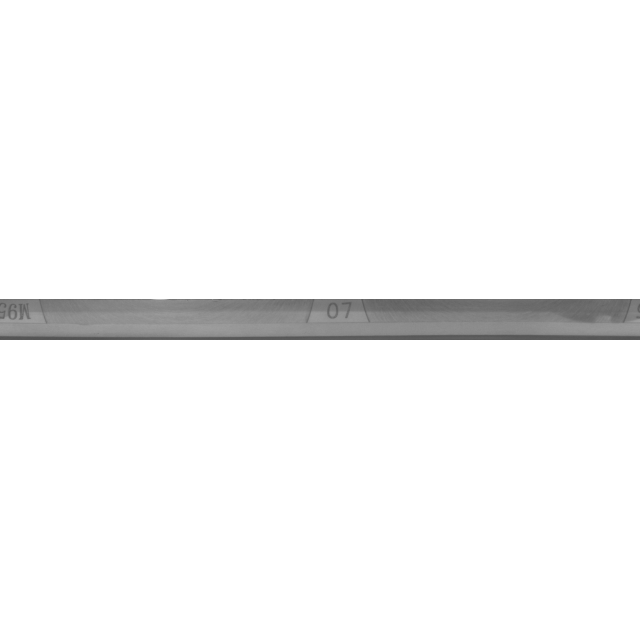mohao: (0, 270, 114, 370)
xuehao: (238, 270, 438, 370)
